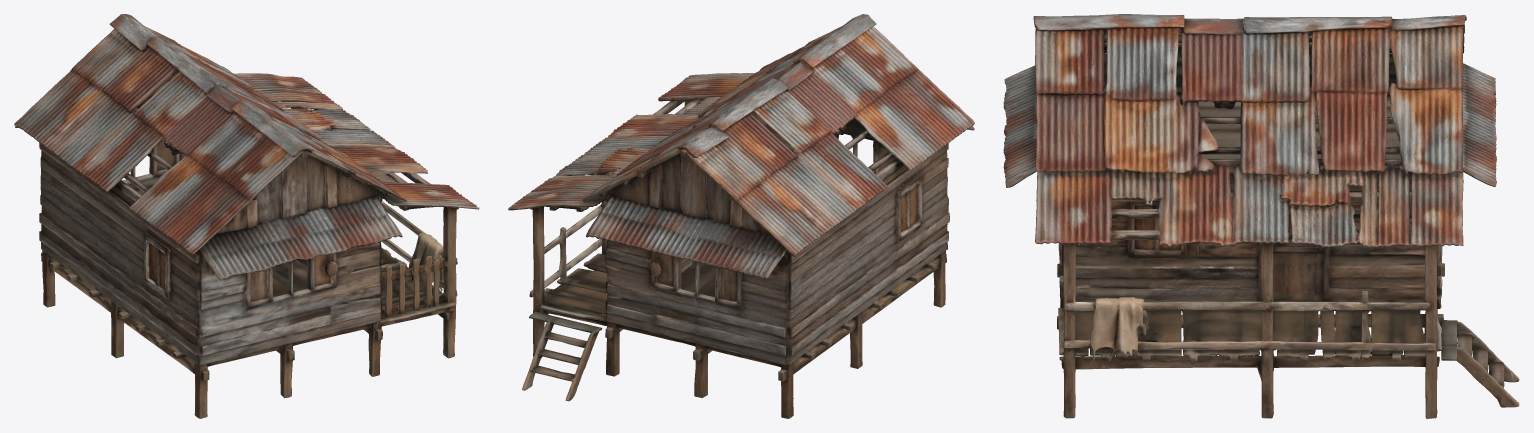
The picture shows the model from 3 angles, left to right: view 1: azimuth 30°, elevation 25°; view 2: azimuth 150°, elevation 25°; view 3: azimuth 270°, elevation 25°; orthographic projection. The views are drawn at different scales.
Visible parts, largest first — view 1: tripo_node_2ab5dc92-5b32-4638-b4f4-4ac771f6c5ef; view 2: tripo_node_2ab5dc92-5b32-4638-b4f4-4ac771f6c5ef; view 3: tripo_node_2ab5dc92-5b32-4638-b4f4-4ac771f6c5ef.
Boxes of the visible parts, x1,y1,x2,y2 form: tripo_node_2ab5dc92-5b32-4638-b4f4-4ac771f6c5ef: [14, 14, 479, 418]; tripo_node_2ab5dc92-5b32-4638-b4f4-4ac771f6c5ef: [508, 14, 974, 418]; tripo_node_2ab5dc92-5b32-4638-b4f4-4ac771f6c5ef: [1003, 14, 1519, 418].
Bounding box in the file's own units: 0.7706 × 0.6675 × 1.
1 material, 1 textured.
